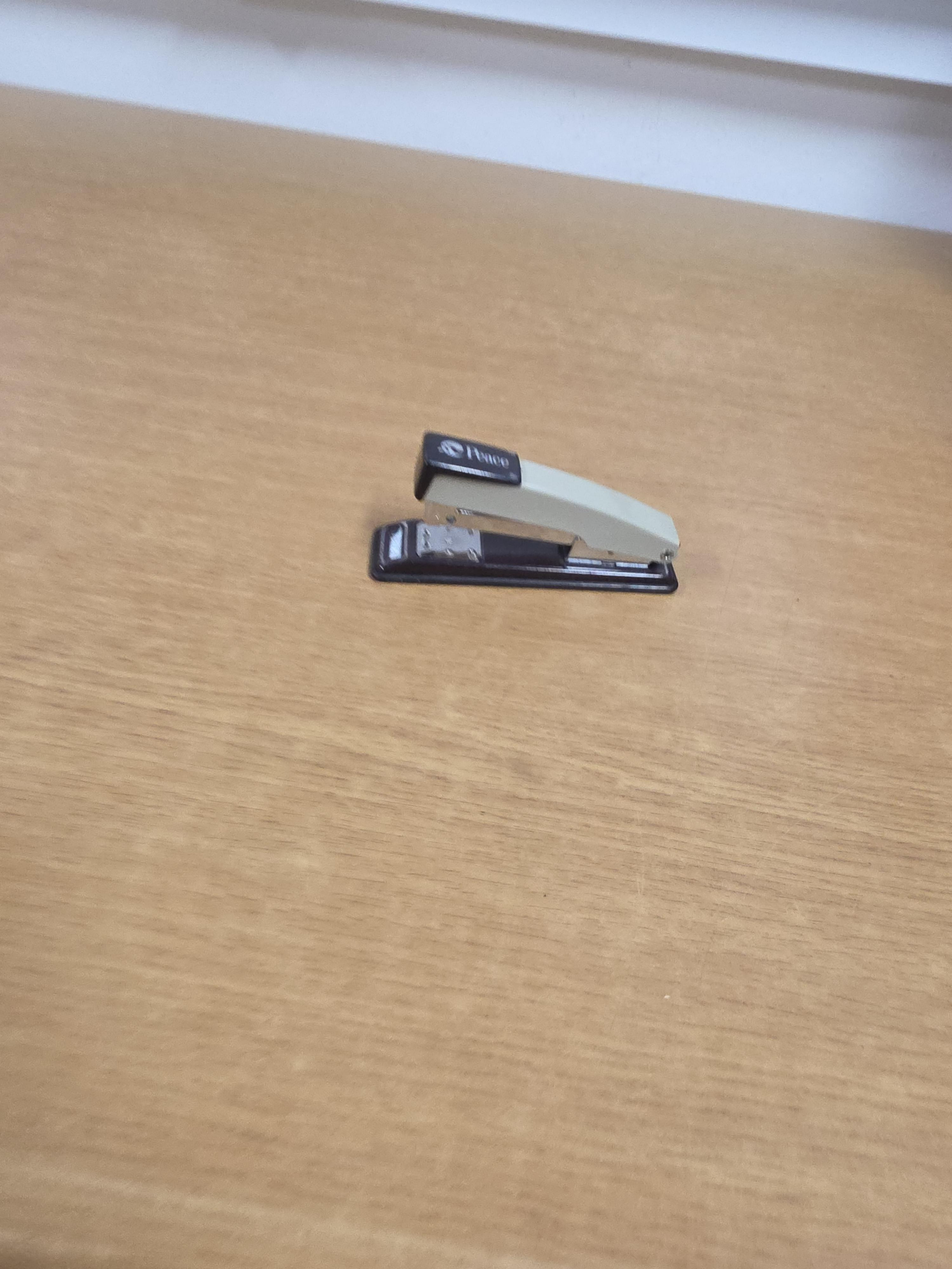stapler: (366, 430, 682, 595)
